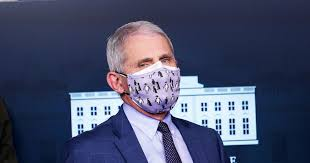mask: (128, 68, 180, 113)
